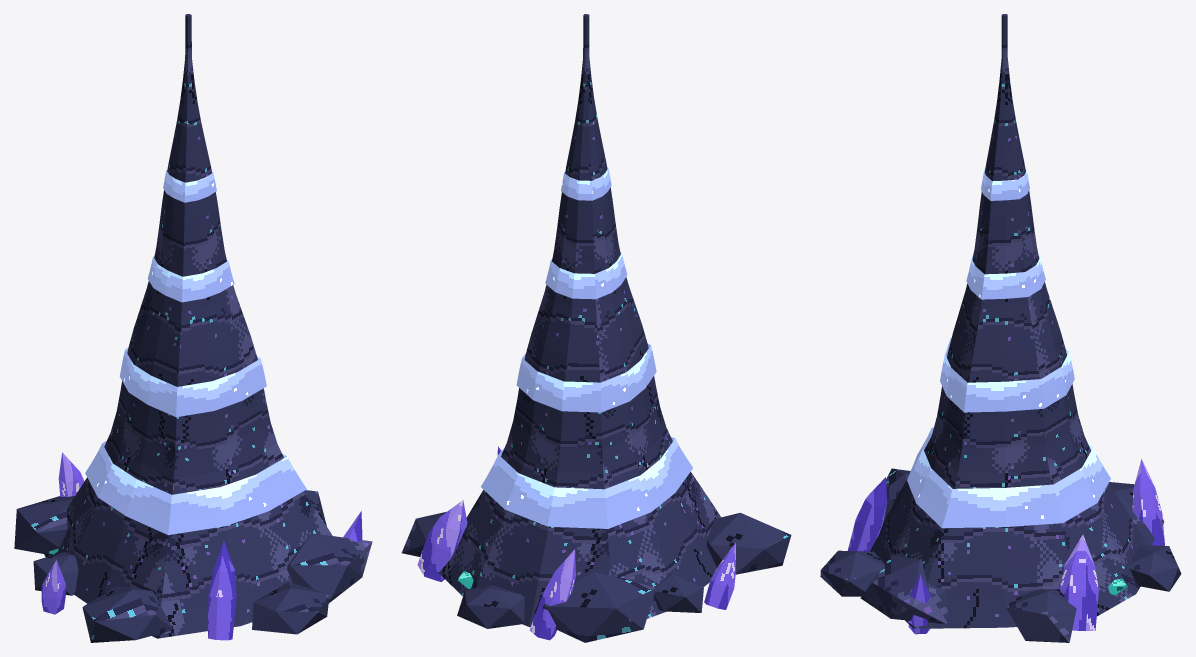
Rendered from cave_stalagmite.glb.
3 renders of one model, left to right at view 1: azimuth 30°, elevation 25°; view 2: azimuth 150°, elevation 25°; view 3: azimuth 270°, elevation 25°, orthographic.
Parts seen in each view (by area): view 1: Stalagmite, Scree, WetBand0, WetBand1, Crystal, WetBand2, WetBand3; view 2: Stalagmite, Scree, WetBand0, Crystal, WetBand1, WetBand2, WetBand3; view 3: Stalagmite, Scree, WetBand0, Crystal, WetBand1, WetBand2, WetBand3.
Part boxes in pixels (x1,y1,x2,y2): Stalagmite: (44,14,332,638); Scree: (14,490,372,642); WetBand0: (85,440,306,535); WetBand1: (119,348,266,417); Crystal: (41,452,362,640); WetBand2: (147,255,234,302); WetBand3: (163,170,216,202); Stalagmite: (439,14,720,627); Scree: (401,511,791,642); WetBand0: (481,437,692,528); Crystal: (417,446,735,640); WetBand1: (516,344,656,412); WetBand2: (545,252,627,299); WetBand3: (561,167,611,200); Stalagmite: (870,14,1147,628); Scree: (820,468,1181,642); WetBand0: (907,427,1110,528); Crystal: (847,459,1164,634); WetBand1: (940,338,1074,412); WetBand2: (966,250,1045,299); WetBand3: (981,166,1029,200).
Bounding box in the file's own units: 3.43 × 6.11 × 3.55.
4 materials, 4 textured.
